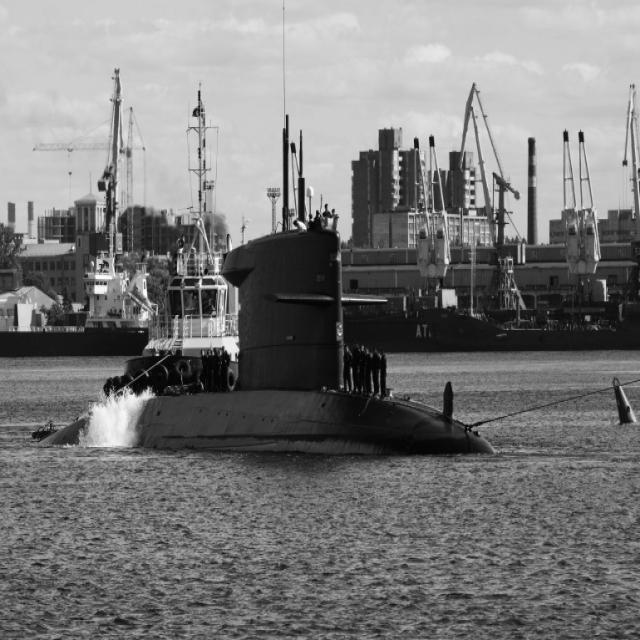submarine: (25, 226, 496, 452)
